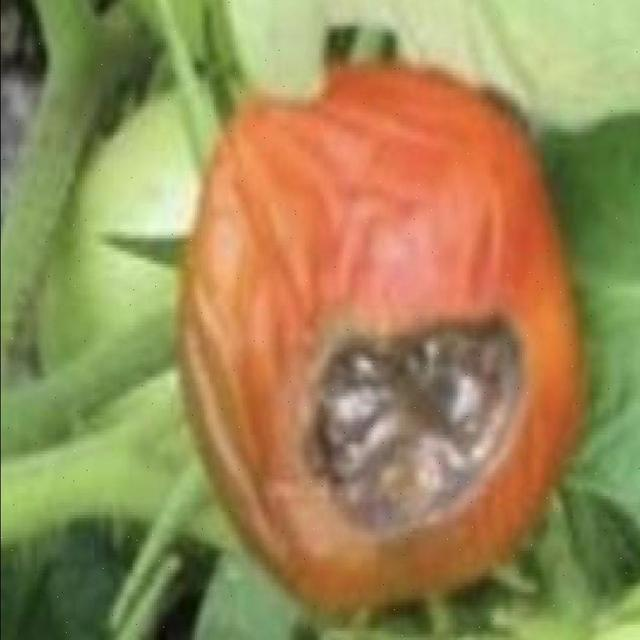Sunscald Fruit: (196, 200, 359, 359)
